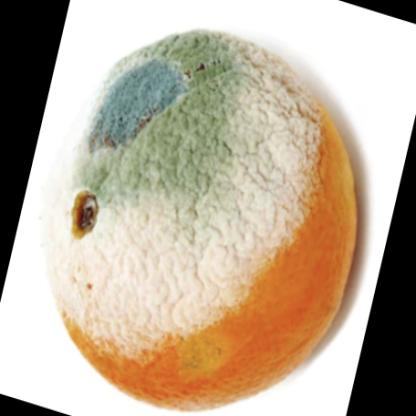rotten: (53, 30, 358, 415)
